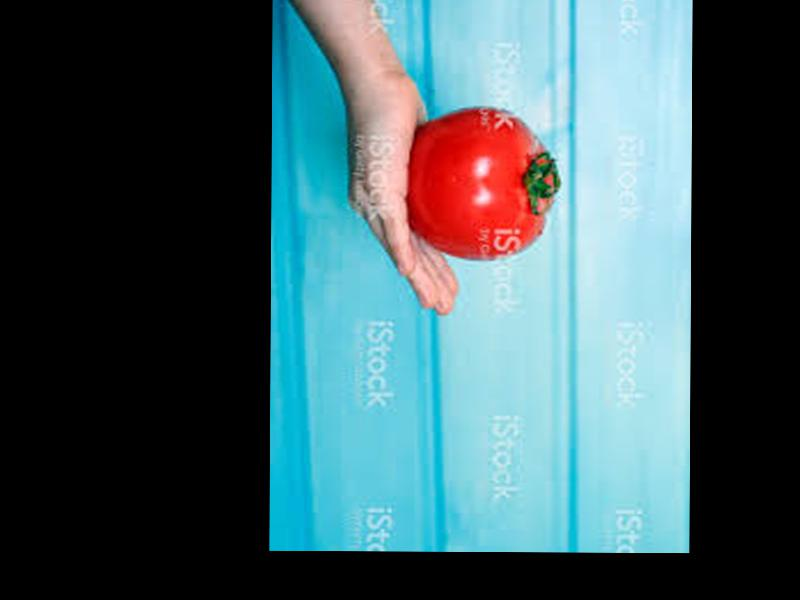Tomato: (406, 110, 558, 261)
